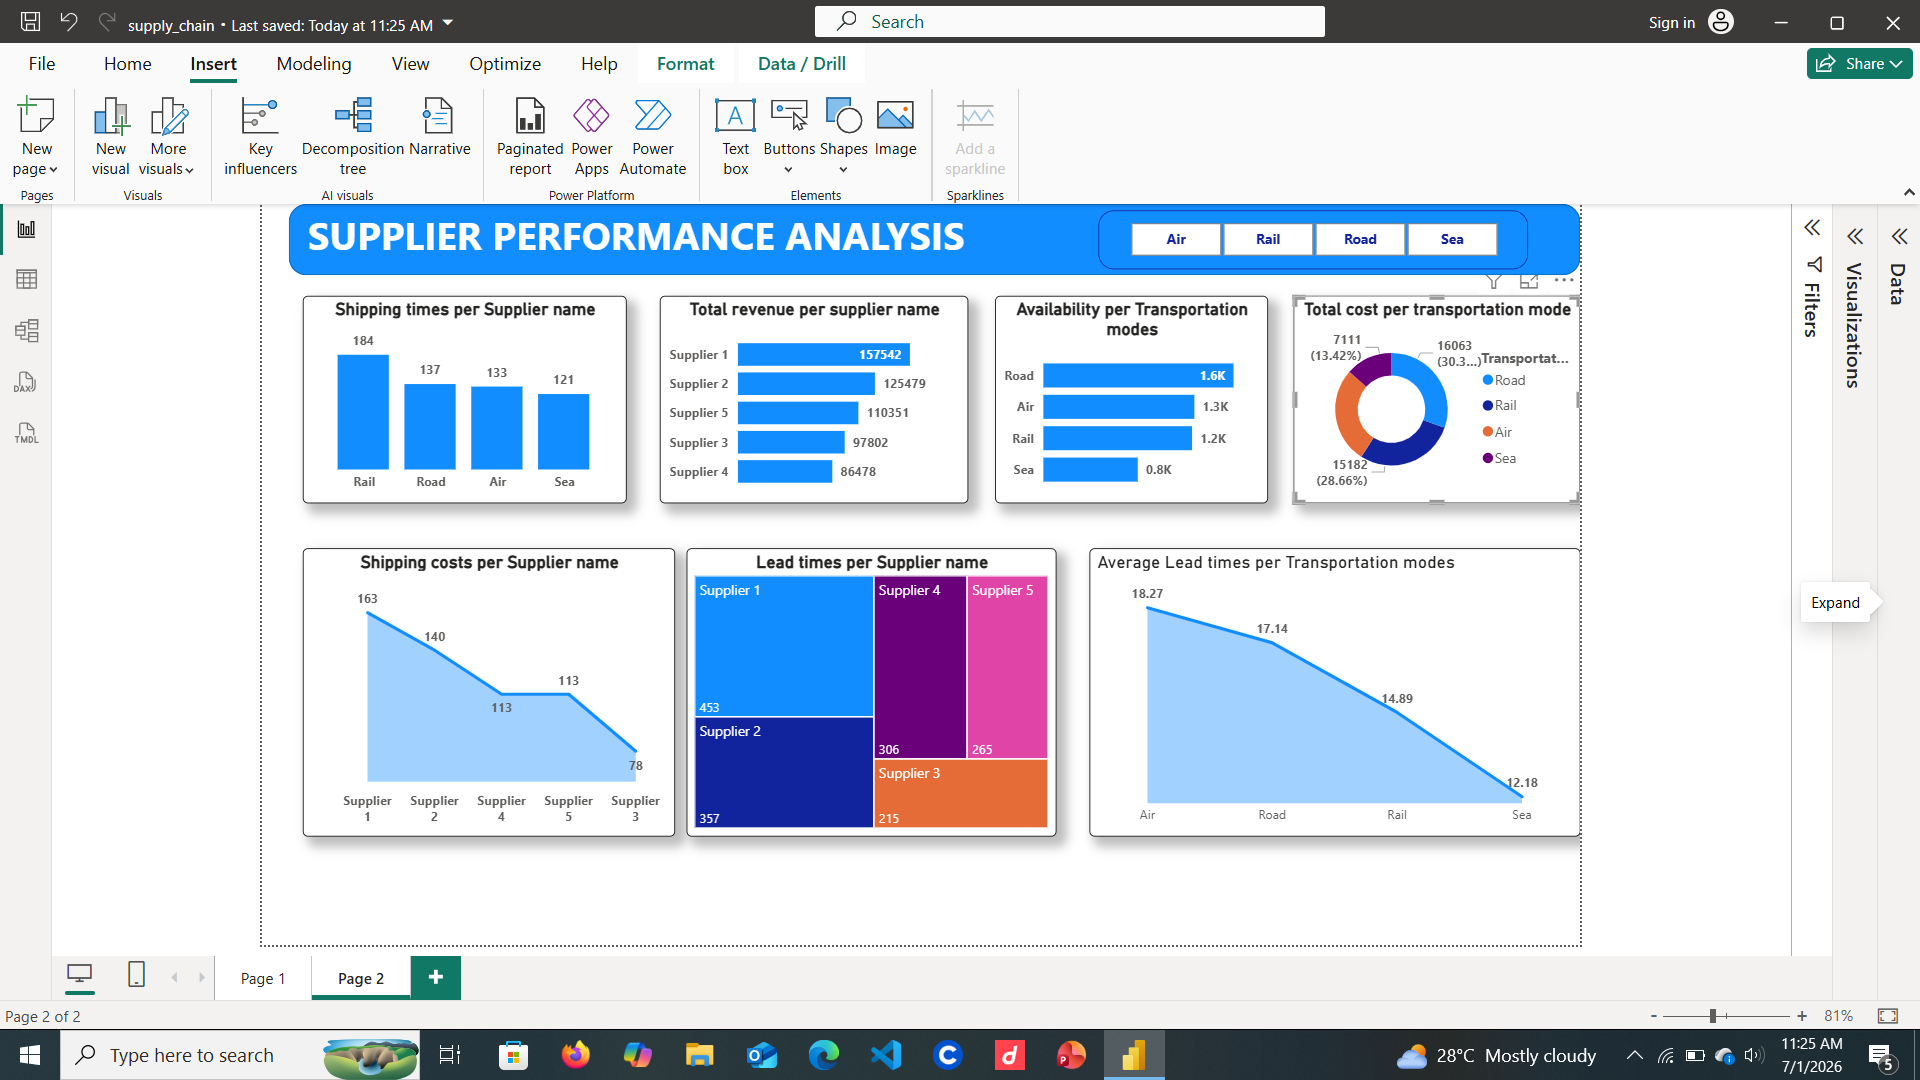

The dashboard page shown, as its layout file describes it:
{"tool":"powerbi","page":{"name":"Page 2","canvas":[1280,720],"ordinal":1},"visuals":[{"type":"columnChart","title":"Shipping times per Supplier name","fields":{"Category":["supply_chain_data.Transportation modes"],"Y":["Sum(supply_chain_data.Shipping times)"]},"box":[39.6,89.1,314.5,201.8],"z":0},{"type":"clusteredBarChart","title":"Total revenue per supplier name","fields":{"Category":["supply_chain_data.Supplier name"],"Y":["Sum(supply_chain_data.Revenue generated)"]},"box":[386.3,89.1,299.6,201.8],"z":1},{"type":"areaChart","title":" Shipping costs per Supplier name","fields":{"Category":["supply_chain_data.Supplier name"],"Y":["Sum(supply_chain_data.Shipping costs)"]},"box":[39.6,334.3,361.5,279.8],"z":2},{"type":"treemap","title":"Lead times per Supplier name","fields":{"Group":["supply_chain_data.Supplier name"],"Values":["Sum(supply_chain_data.Lead times)"]},"box":[412.3,334.3,359.1,279.8],"z":3},{"type":"clusteredBarChart","title":" Availability per Transportation modes","fields":{"Y":["Sum(supply_chain_data.Availability)"],"Category":["supply_chain_data.Transportation modes"]},"box":[711.9,89.1,265,201.8],"z":4},{"type":"donutChart","title":"Total cost per transportation mode","fields":{"Category":["supply_chain_data.Transportation modes"],"Y":["Sum(supply_chain_data.Costs)"]},"box":[1001.7,89.1,278.6,201.8],"z":5},{"type":"areaChart","title":"Average Lead times per Transportation modes","fields":{"Category":["supply_chain_data.Transportation modes"],"Y":["Avg(supply_chain_data.Lead times)"]},"box":[803.6,334.3,476.7,279.8],"z":6},{"type":"shape","box":[26,0,1254.2,69.3],"z":7},{"type":"textbox","box":[39.6,0,893.9,69.3],"z":8},{"type":"slicer","fields":{"Values":["supply_chain_data.Transportation modes"]},"box":[711.9,6.2,417.3,57],"z":9},{"type":"pageNavigator","box":[1141.6,13.6,122.6,49.5],"z":10}]}

Visuals, with their boxes on the page's 1280x720 design canvas (x1, y1, x2, y2). These are canvas units, not pixel positions in the 1920x1080 screenshot, which may show the page scaled, cropped or inside an application window:
"Shipping times per Supplier name" columnChart: left=40, top=89, right=354, bottom=291
"Total revenue per supplier name" clusteredBarChart: left=386, top=89, right=686, bottom=291
" Shipping costs per Supplier name" areaChart: left=40, top=334, right=401, bottom=614
"Lead times per Supplier name" treemap: left=412, top=334, right=771, bottom=614
" Availability per Transportation modes" clusteredBarChart: left=712, top=89, right=977, bottom=291
"Total cost per transportation mode" donutChart: left=1002, top=89, right=1280, bottom=291
"Average Lead times per Transportation modes" areaChart: left=804, top=334, right=1280, bottom=614
shape: left=26, top=0, right=1280, bottom=69
textbox: left=40, top=0, right=934, bottom=69
slicer - supply_chain_data.Transportation modes: left=712, top=6, right=1129, bottom=63
pageNavigator: left=1142, top=14, right=1264, bottom=63
